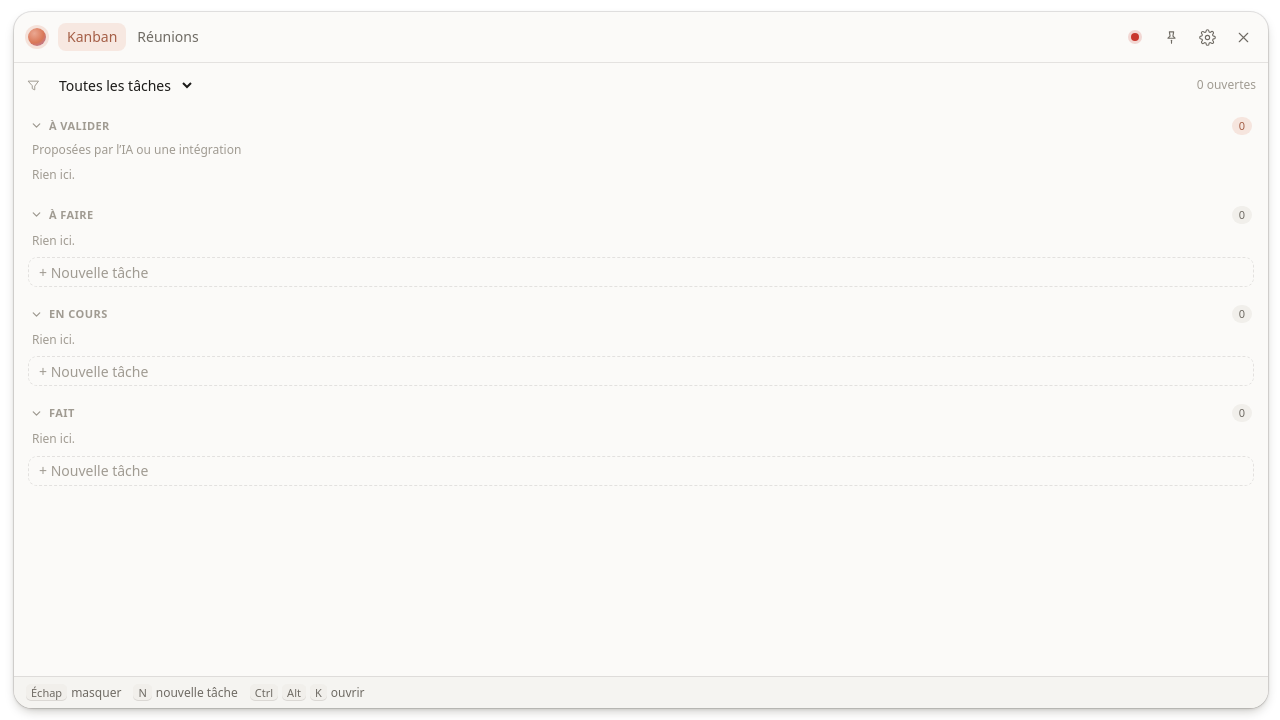
Test case: pin button › toggles « hide when clicking elsewhere » in the app settings
Click the button named "Épingler le panneau" at (1171, 37), box [1156,22,1186,52]
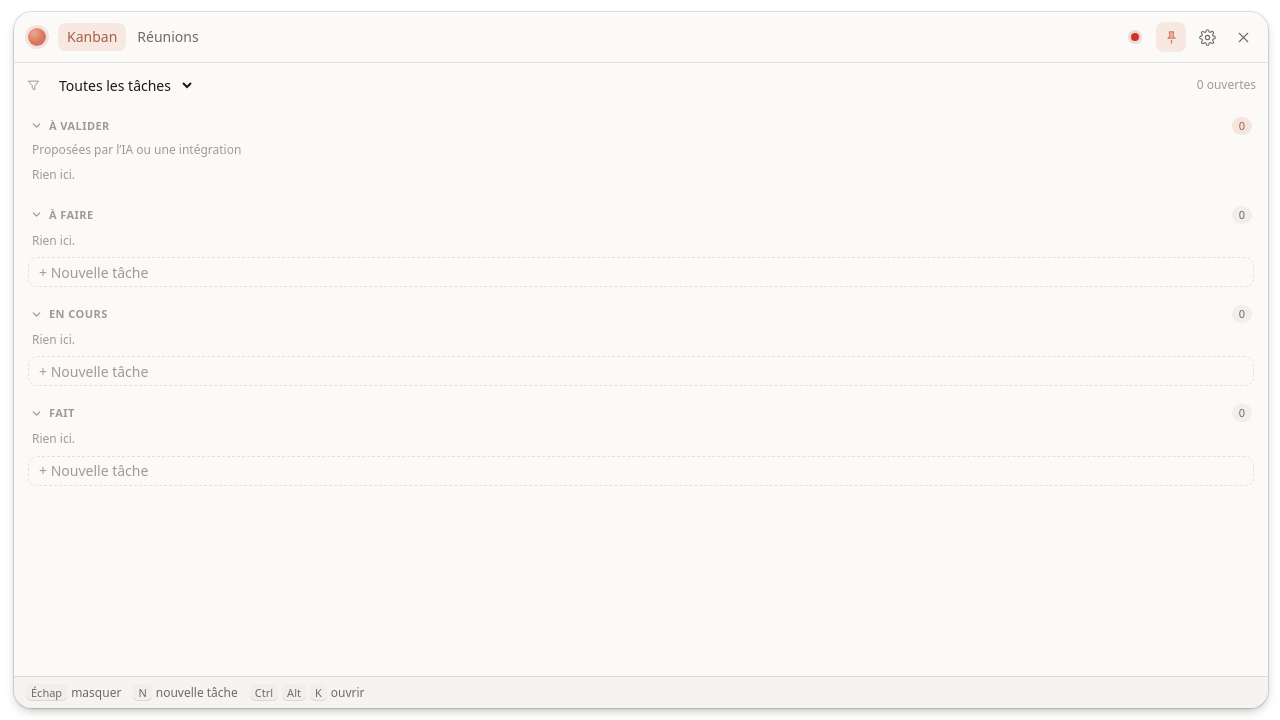
Result: the button named "Épingler le panneau" is pressed at [1156,22,1186,52]
